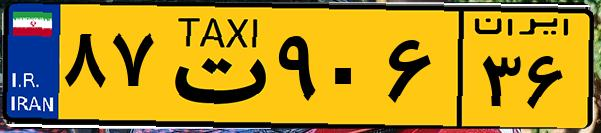0: (330, 28, 385, 110)
3: (475, 38, 525, 113)
6: (385, 28, 445, 110), (525, 38, 570, 115)
7: (110, 28, 158, 98)
8: (57, 26, 110, 100)
9: (270, 28, 330, 110)
ت: (158, 12, 270, 120)
